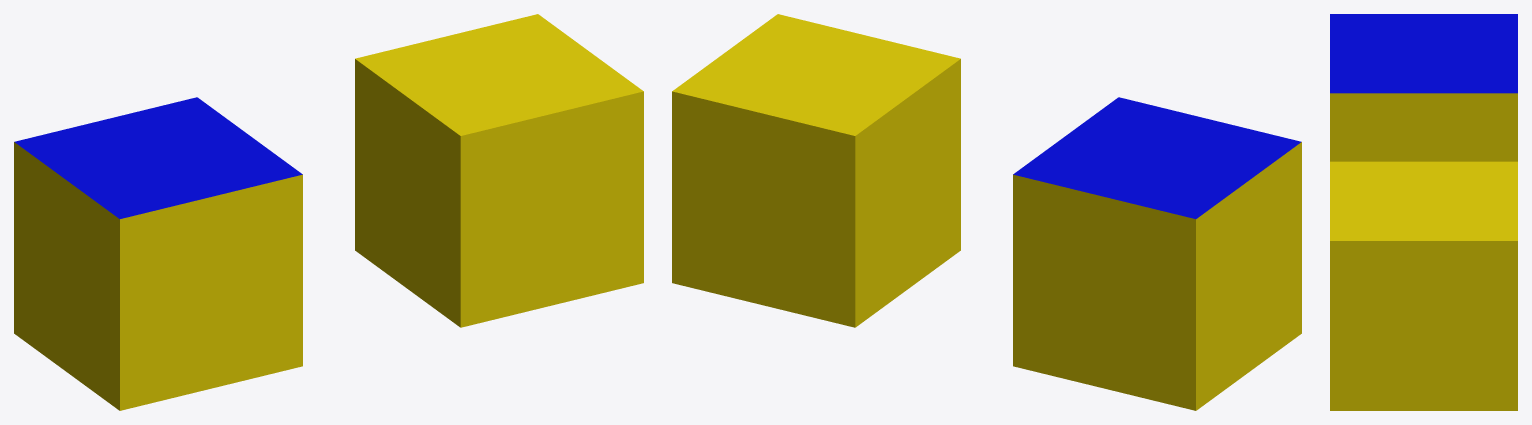
The model's file is cubo3.fbx.
3 views of the same model, side by side, from view 1: azimuth 30°, elevation 25°; view 2: azimuth 150°, elevation 25°; view 3: azimuth 270°, elevation 25° (orthographic). The views are drawn at different scales.
Parts seen in each view (by area): view 1: Cubo, Cubo.001; view 2: Cubo, Cubo.001; view 3: Cubo.001, Cubo.
Boxes of the visible parts, x1,y1,x2,y2 form: Cubo: (14, 97, 302, 410); Cubo.001: (355, 14, 643, 327); Cubo: (1013, 97, 1301, 410); Cubo.001: (672, 14, 960, 327); Cubo.001: (1330, 161, 1517, 410); Cubo: (1330, 14, 1517, 161).
Size of the model in its own units: 572 by 200 by 200.
